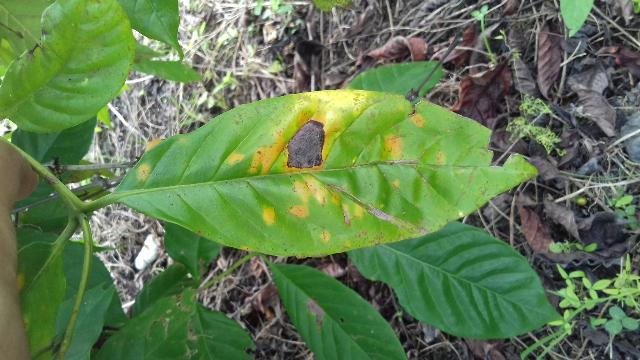rust_level_3: (83, 90, 539, 257)
